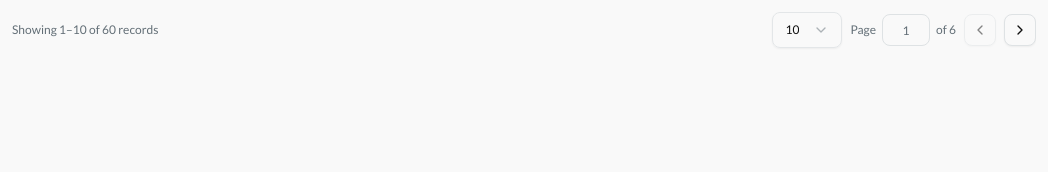
Scenario: retains default sizes for existing consumers
Click the dropdown. click: click(807, 30)
box: [772, 12, 842, 48]
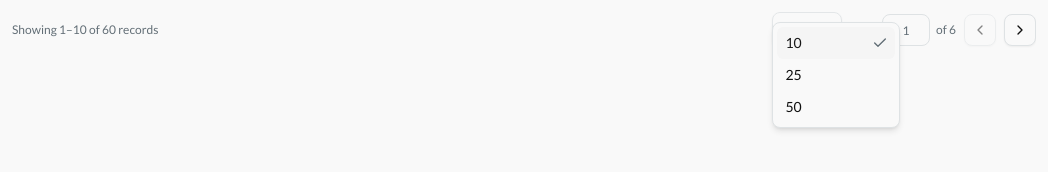
Check: the option "10" is shown, box [777, 27, 895, 59]
Check: the option "25" is shown, box [785, 66, 802, 83]
Check: the option "50" is shown, box [785, 98, 802, 115]
